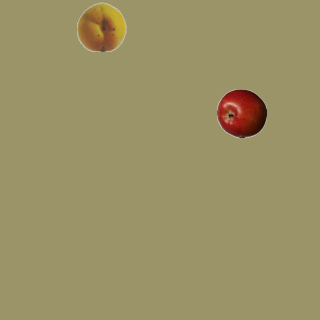Apple Braeburn: (216, 88, 266, 138)
Peach 2: (76, 1, 126, 51)
